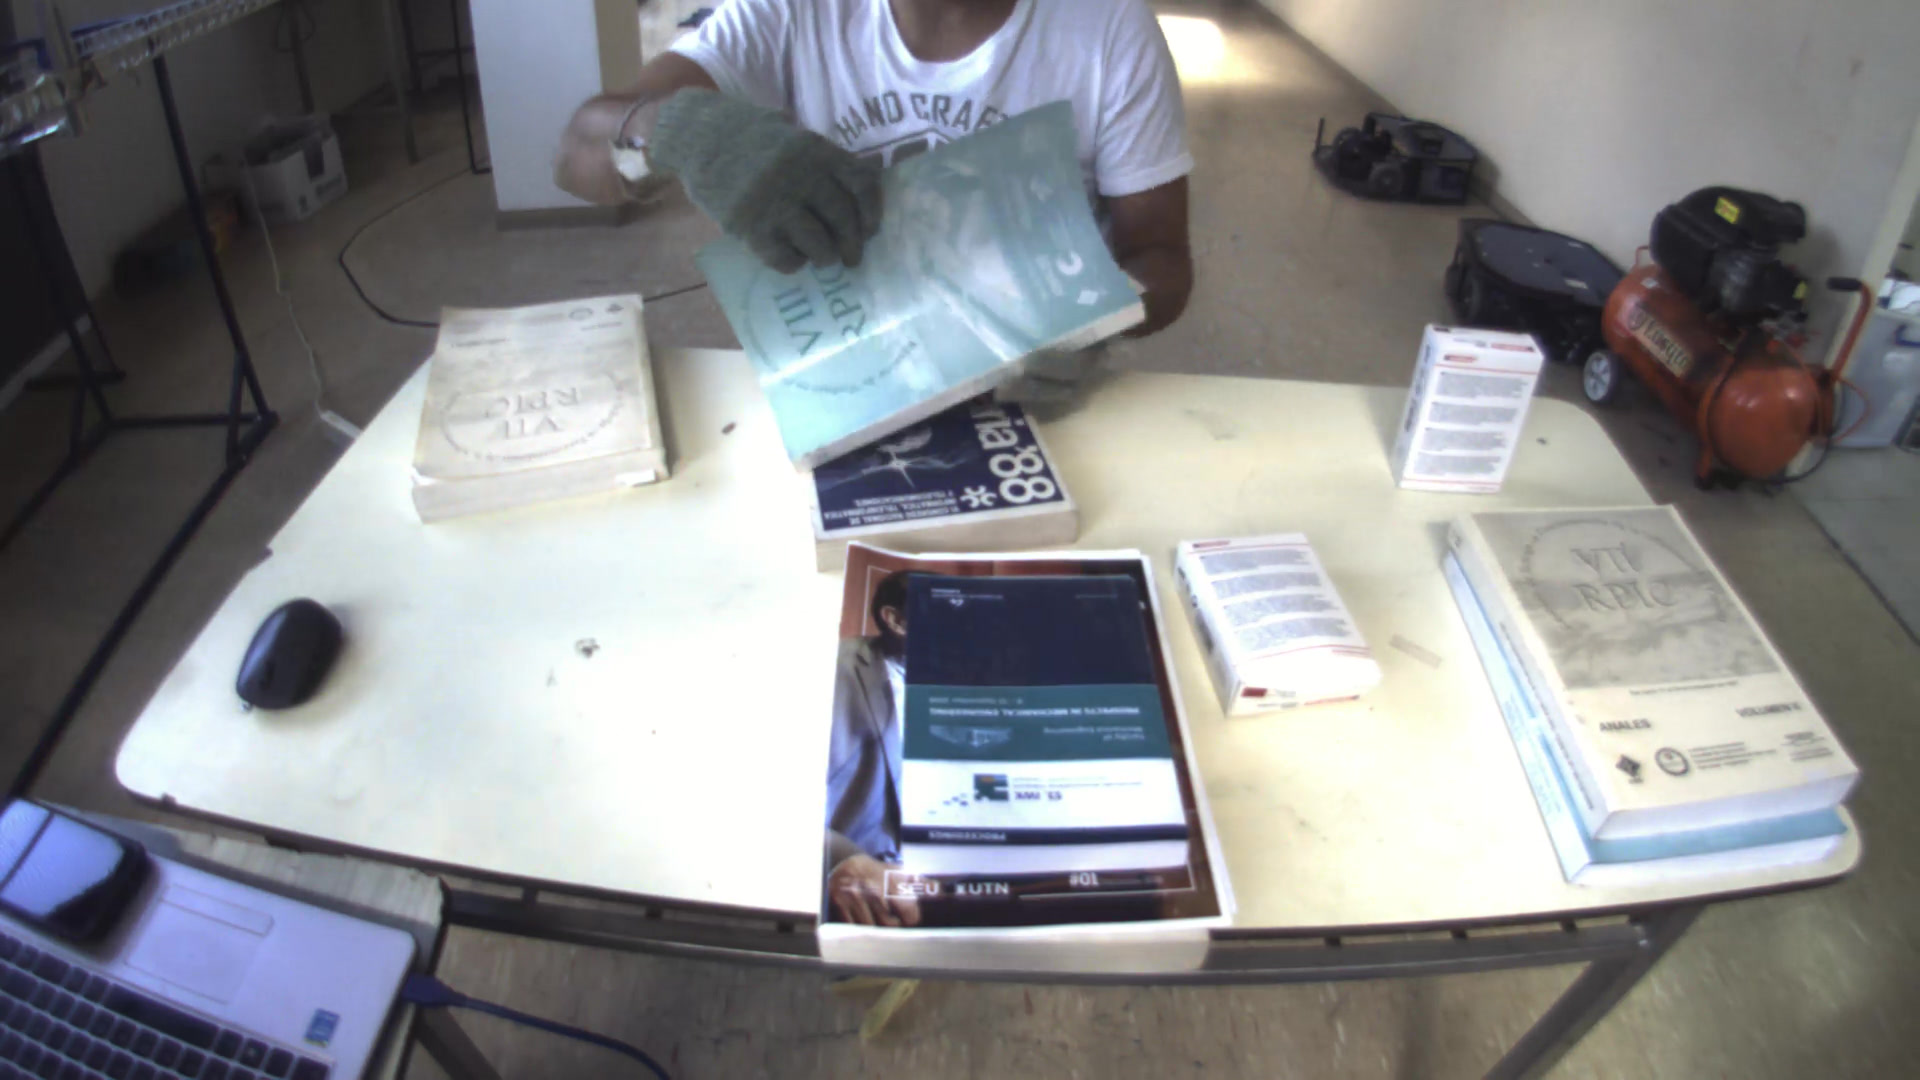hand: (634, 86, 886, 266)
